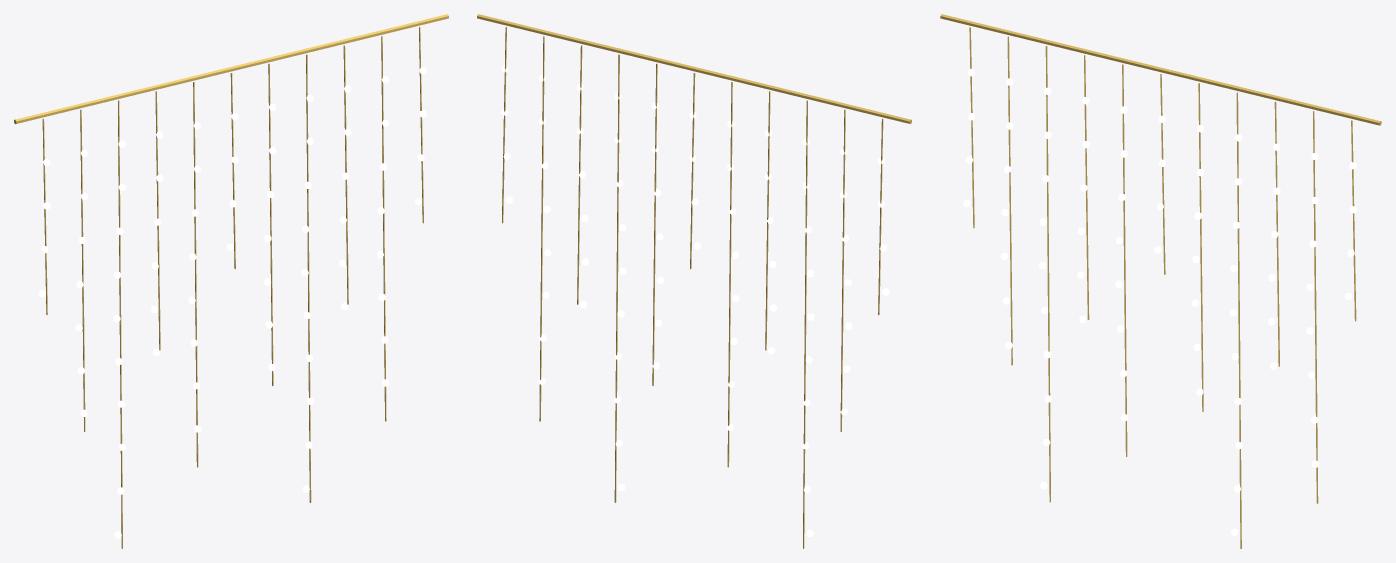
File: fairy_lights_curtain.glb
The picture shows the model from 3 angles, left to right: view 1: azimuth 30°, elevation 25°; view 2: azimuth 150°, elevation 25°; view 3: azimuth 330°, elevation 25°; orthographic projection.
Visible parts, largest first — view 1: fairy_lights_curtain; view 2: fairy_lights_curtain; view 3: fairy_lights_curtain.
Boxes of the visible parts, x1,y1,x2,y2 form: fairy_lights_curtain: (14,14,448,548); fairy_lights_curtain: (477,14,911,548); fairy_lights_curtain: (940,14,1381,548).
Bounding box in the file's own units: 2.3 × 2.31 × 0.0384.
